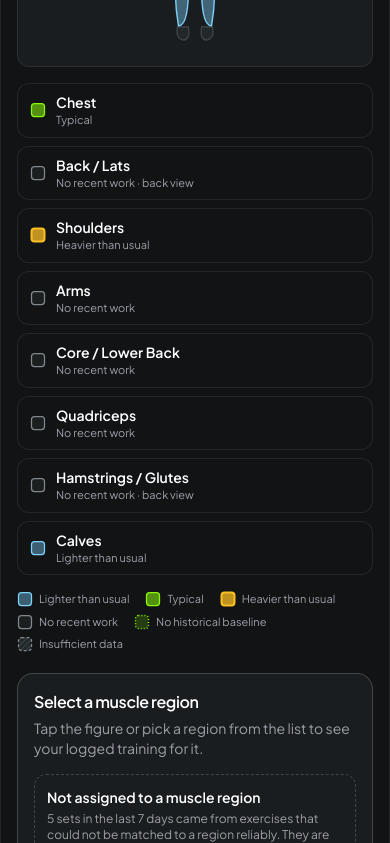
states: empty, insufficient, sufficient, no-record, unmapped › a region with no recorded training gets a clear empty state
(page scrolled)
Click the button "Quadriceps No recent work" at (96,414), box [17, 396, 373, 450]
(page scrolled)
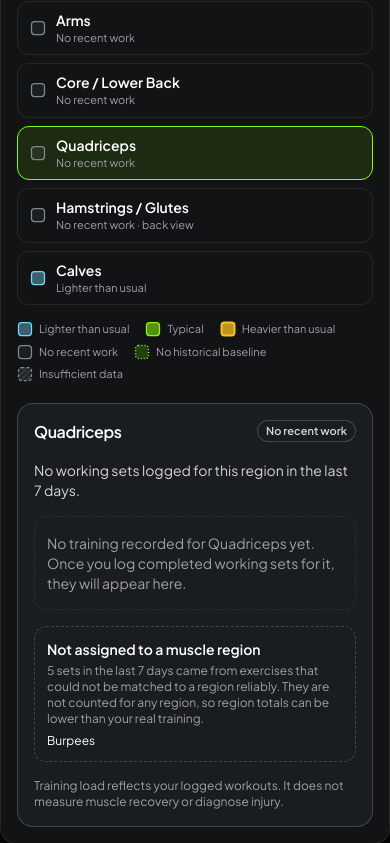
expect the element with test id "muscle-detail-panel" shows "No training recorded for Quadriceps yet.": met, box [17, 402, 373, 826]
expect the element with test id "muscle-detail-panel" shows "No recent work": met, box [266, 424, 347, 436]
